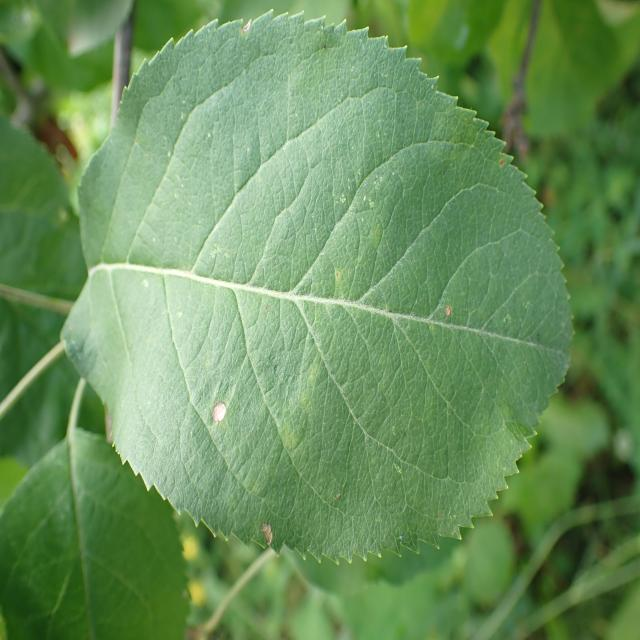Black Rot: (200, 354, 246, 463), (256, 512, 283, 576)
